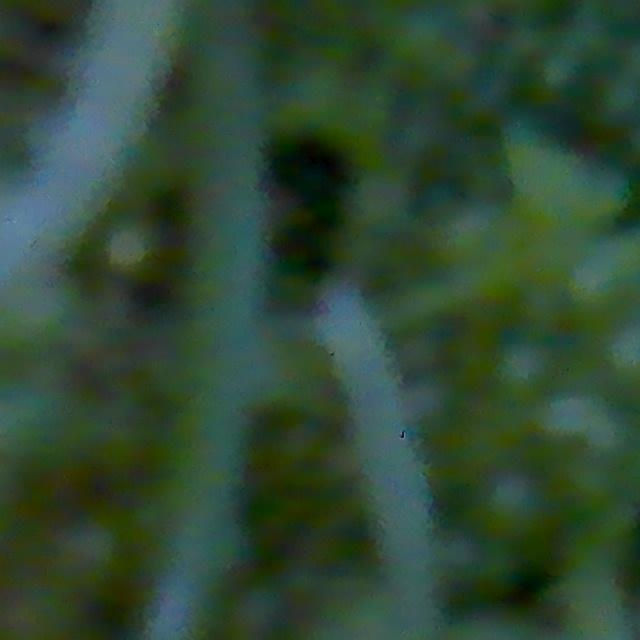SeaGrape: (471, 470, 548, 543), (52, 517, 124, 589), (93, 218, 156, 283), (496, 343, 564, 400)
